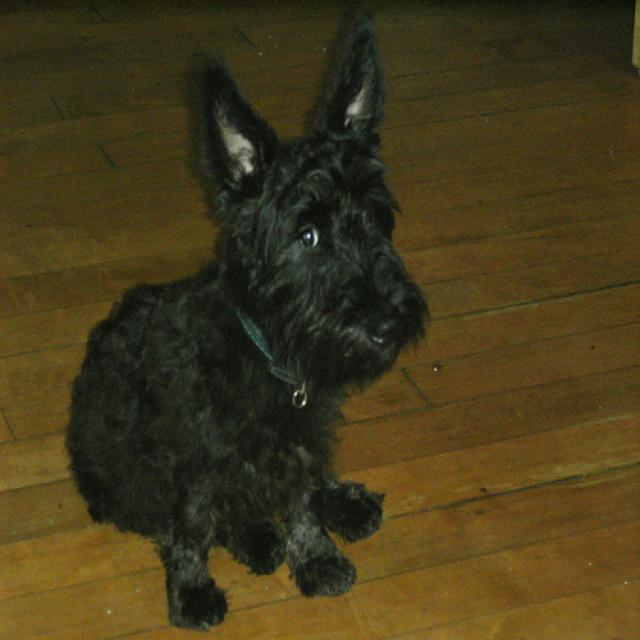dog-scottish_terrier: (64, 38, 429, 637)
